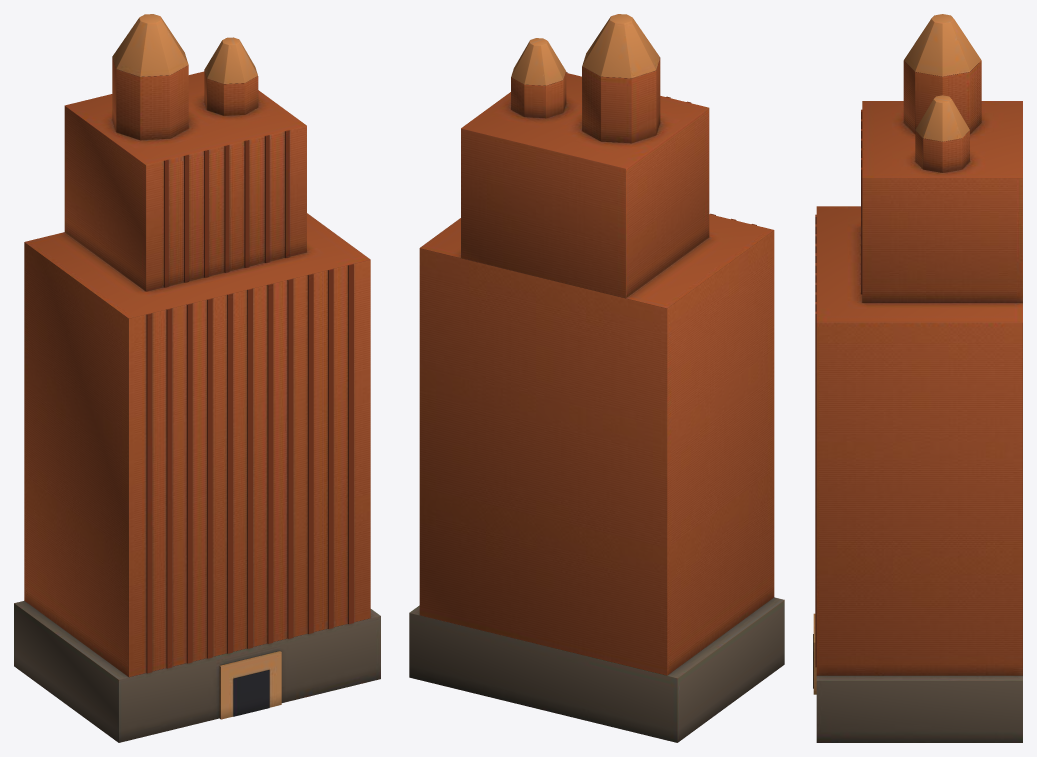
File: guardian_building.glb
3 views of the same model, side by side, from view 1: azimuth 30°, elevation 25°; view 2: azimuth 150°, elevation 25°; view 3: azimuth 270°, elevation 25° (orthographic). The views are drawn at different scales.
Parts seen in each view (by area): view 1: guardian_building; view 2: guardian_building; view 3: guardian_building.
Boxes of the visible parts, left/top/right/bottom form: guardian_building: left=14, top=14, right=380, bottom=742; guardian_building: left=409, top=14, right=784, bottom=742; guardian_building: left=813, top=14, right=1022, bottom=742.
Bounding box in the file's own units: 26 × 62 × 18.3.
1 material, 1 textured.
